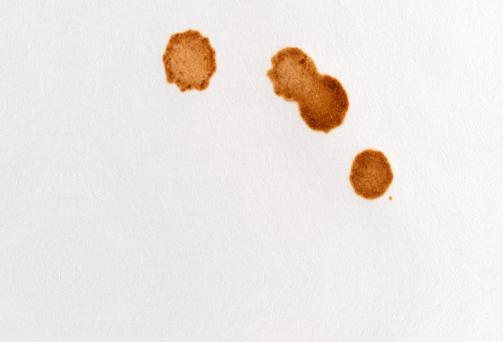stain: (265, 44, 351, 135), (160, 27, 219, 93), (349, 145, 394, 201)
